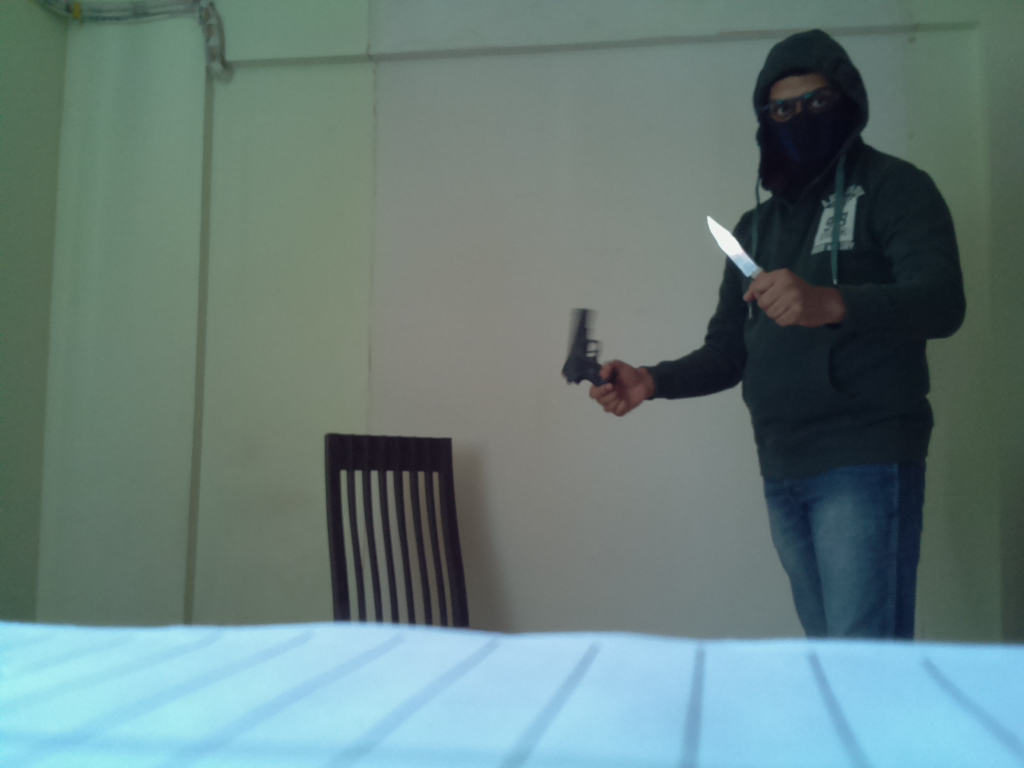gun: (555, 303, 630, 396)
knife: (701, 214, 769, 287)
